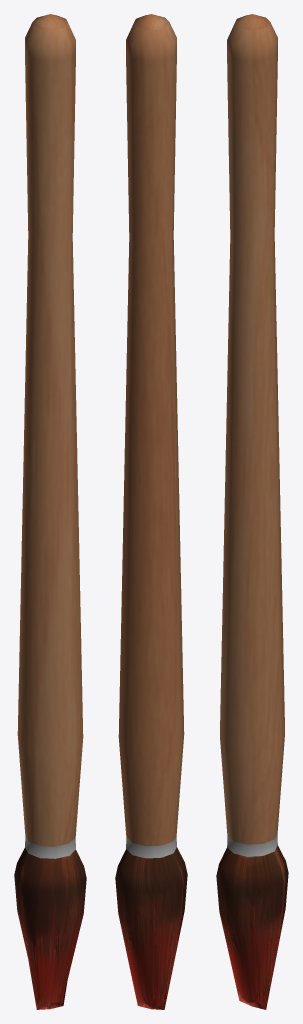
Rendered from pinsel_neu.fbx.
3 renders of one model, left to right at view 1: azimuth 30°, elevation 25°; view 2: azimuth 150°, elevation 25°; view 3: azimuth 330°, elevation 25°, orthographic.
Visible parts, largest first — view 1: pCylinder1; view 2: pCylinder1; view 3: pCylinder1.
Boxes of the visible parts, x1=… form: pCylinder1: x1=14, y1=14, x2=86, y2=1009; pCylinder1: x1=115, y1=14, x2=187, y2=1009; pCylinder1: x1=216, y1=14, x2=288, y2=1009.
Bounding box in the file's own units: 1.66 × 25.01 × 1.58.
2 materials, 1 textured.
